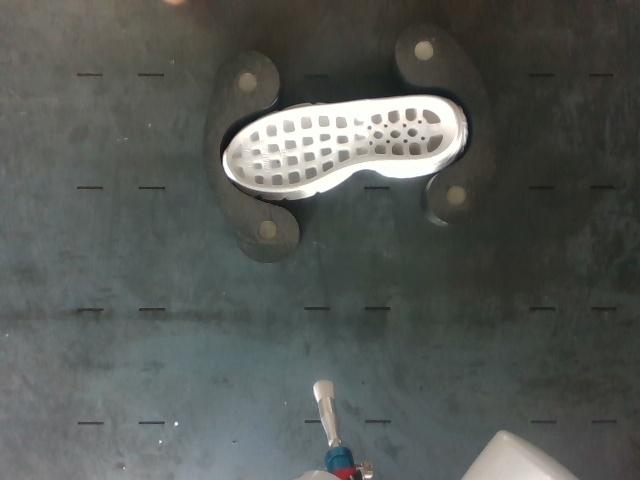shoes: (226, 96, 459, 191)
